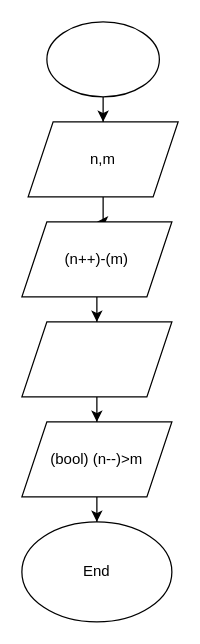
Some shapes in this 200 by 644 pixel diagram are drawn without their labels. Each missing label, with the centre of its shape:
"(bool) (m--)>(n)" goes at point 96,359.
"Start" goes at point 102,59.
